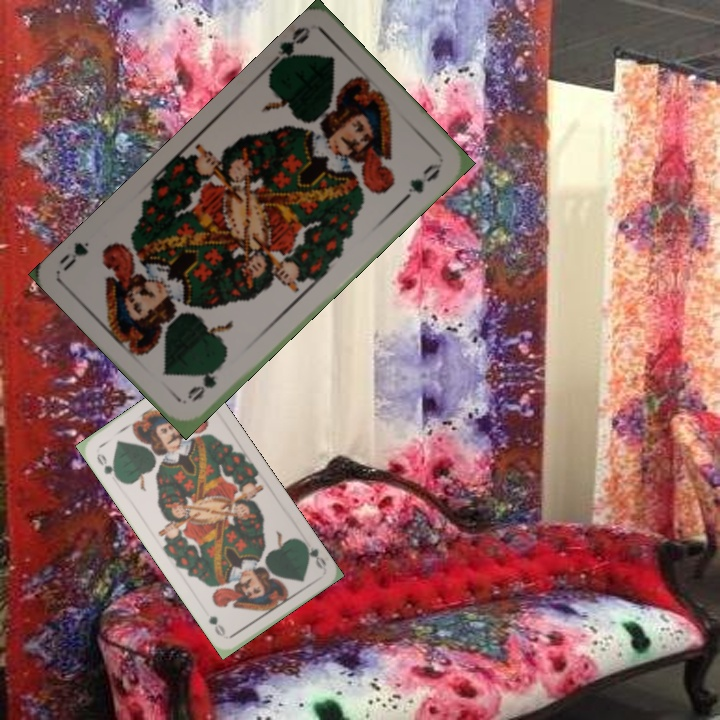GO: (264, 22, 313, 72), (183, 357, 227, 404), (297, 537, 329, 572), (92, 449, 122, 483)
